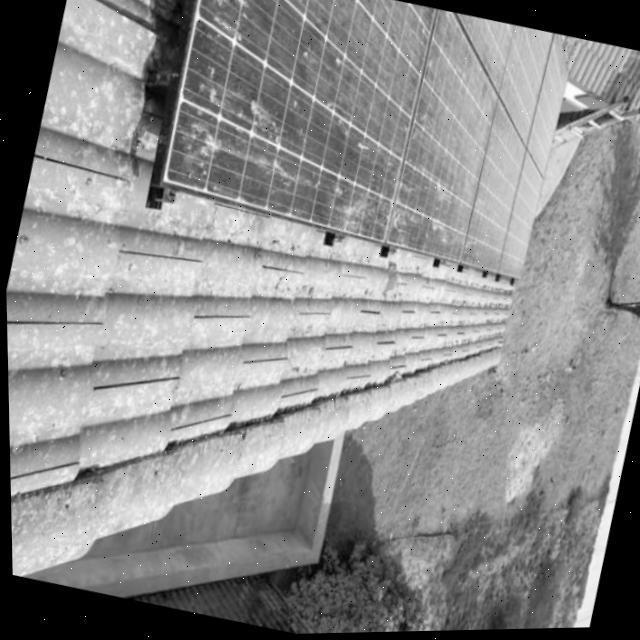Anomaly Solar Panel: (163, 0, 567, 282)
Surface Contaminant: (166, 0, 568, 282)
